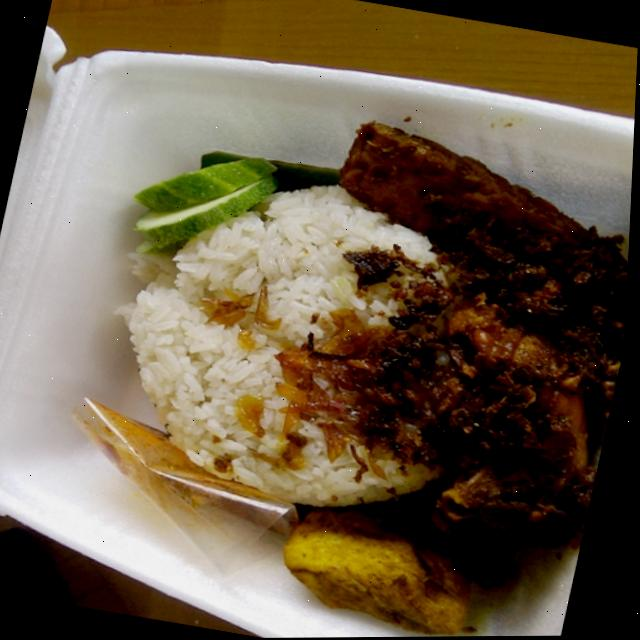米饭主食: (0, 27, 639, 640)
